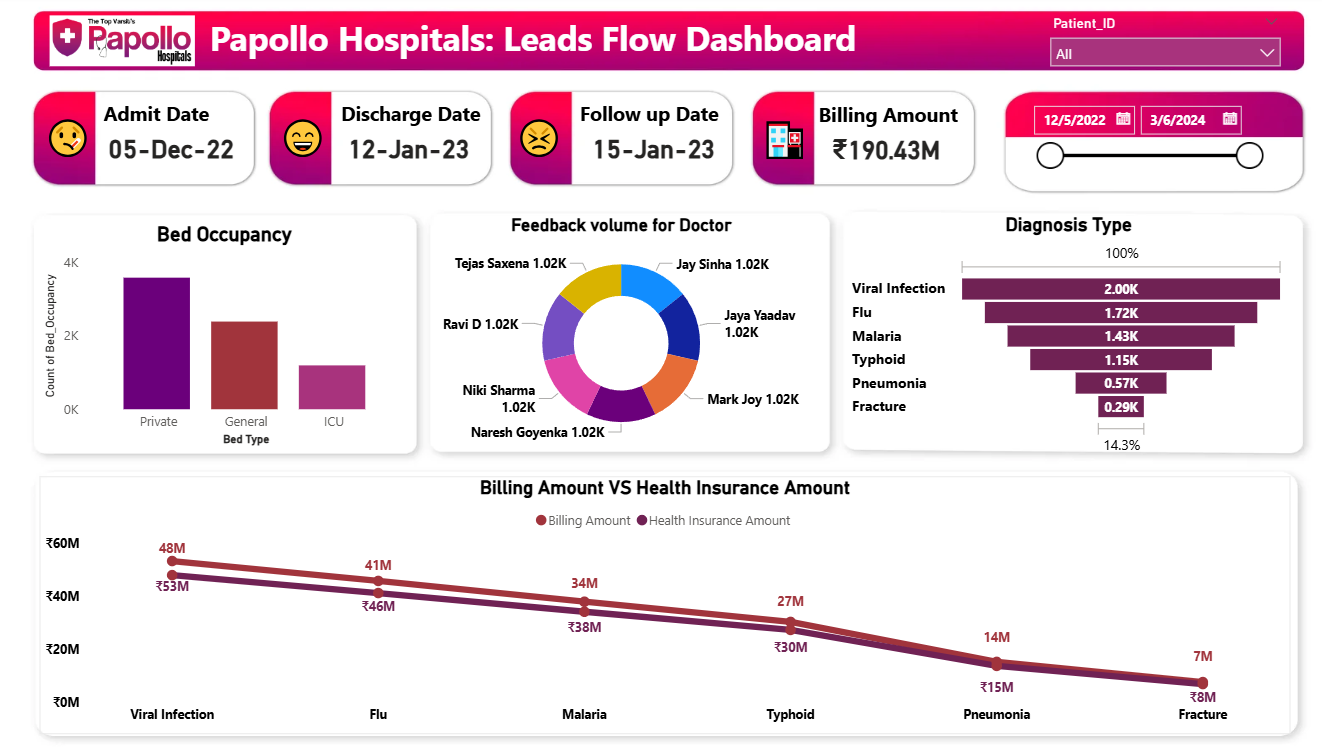

The dashboard page shown, as its layout file describes it:
{"tool":"powerbi","page":{"name":"papollo hospitals dashboard","canvas":[1280,720],"ordinal":0},"visuals":[{"type":"image","box":[40.5,14.3,157.1,58.3],"z":0},{"type":"textbox","box":[197.6,14.3,690.5,61.9],"z":1000},{"type":"slicer","fields":{"Values":["Sheet1.Patient_ID"]},"box":[992.9,14.3,239.3,58.3],"z":2000},{"type":"card","fields":{"Values":["Min(Sheet1.Admit_Date)"]},"box":[96.4,127.4,139.3,36.9],"z":3000},{"type":"textbox","box":[96.4,95.2,140.5,42.9],"z":4000},{"type":"textbox","box":[322.6,95.2,151.2,42.9],"z":5000},{"type":"card","fields":{"Values":["Min(Sheet1.Discharge_Date)"]},"box":[322.6,127.4,139.3,36.9],"z":6000},{"type":"textbox","box":[550,95.2,151.2,42.9],"z":7000},{"type":"card","fields":{"Values":["Min(Sheet1.Followup Date)"]},"box":[556,127.4,139.3,36.9],"z":8000},{"type":"card","fields":{"Values":["Sum(Sheet1.Billing Amount)"]},"box":[777.4,128.6,139.3,36.9],"z":9000},{"type":"textbox","box":[777.4,96.4,151.2,42.9],"z":10000},{"type":"slicer","fields":{"Values":["Sheet1.Admit_Date"]},"box":[975,95.2,239.3,86.9],"z":11000},{"type":"columnChart","title":"Bed Occupancy","fields":{"Category":["Sheet1.Bed_Occupancy"],"Y":["CountNonNull(Sheet1.Bed_Occupancy)"]},"box":[40.5,216.7,352.4,217.9],"z":12000},{"type":"donutChart","title":"Feedback volume for Doctor","fields":{"Category":["Sheet1.Doctor"],"Y":["CountNonNull(Sheet1.Doctor)"]},"box":[398.8,208.3,391.7,226.2],"z":13000},{"type":"funnel","title":"Diagnosis Type","fields":{"Category":["Sheet1.Diagnosis"],"Y":["CountNonNull(Sheet1.Diagnosis)"]},"box":[809.5,208.3,422.6,233.3],"z":14000},{"type":"lineChart","title":"Billing Amount VS Health Insurance Amount","fields":{"Category":["Sheet1.Diagnosis"],"Y":["Sum(Sheet1.Billing Amount)","Sum(Sheet1.Health Insurance Amount)"]},"box":[40.5,458.3,1191.7,245.2],"z":15000},{"type":"textbox","box":[40.5,108.3,66.7,56],"z":16000},{"type":"textbox","box":[264.3,108.3,66.7,56],"z":17000},{"type":"textbox","box":[489.3,108.3,66.7,56],"z":18000},{"type":"textbox","box":[723.8,110.7,66.7,56],"z":19000}]}

Visuals, with their boxes in screenshot pixels (x1, y1, x2, y2), scaled from the page's 1280x720 canvas onto the 1322x747 screenshot:
image: left=42, top=15, right=204, bottom=75
textbox: left=204, top=15, right=917, bottom=79
slicer - Sheet1.Patient_ID: left=1025, top=15, right=1273, bottom=75
card - Min(Sheet1.Admit_Date): left=100, top=132, right=243, bottom=170
textbox: left=100, top=99, right=245, bottom=143
textbox: left=333, top=99, right=489, bottom=143
card - Min(Sheet1.Discharge_Date): left=333, top=132, right=477, bottom=170
textbox: left=568, top=99, right=724, bottom=143
card - Min(Sheet1.Followup Date): left=574, top=132, right=718, bottom=170
card - Sum(Sheet1.Billing Amount): left=803, top=133, right=947, bottom=172
textbox: left=803, top=100, right=959, bottom=145
slicer - Sheet1.Admit_Date: left=1007, top=99, right=1254, bottom=189
"Bed Occupancy" columnChart: left=42, top=225, right=406, bottom=451
"Feedback volume for Doctor" donutChart: left=412, top=216, right=816, bottom=451
"Diagnosis Type" funnel: left=836, top=216, right=1273, bottom=458
"Billing Amount VS Health Insurance Amount" lineChart: left=42, top=475, right=1273, bottom=730
textbox: left=42, top=112, right=111, bottom=170
textbox: left=273, top=112, right=342, bottom=170
textbox: left=505, top=112, right=574, bottom=170
textbox: left=748, top=115, right=816, bottom=173
